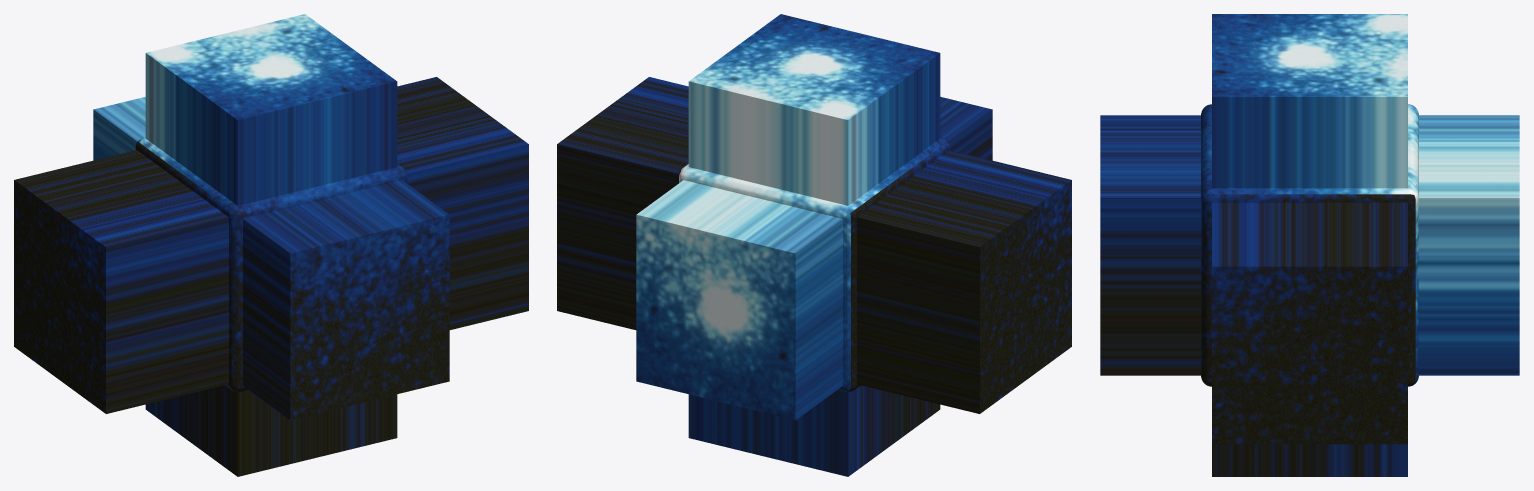
The model's file is square.obj.
3 renders of one model, left to right at view 1: azimuth 30°, elevation 25°; view 2: azimuth 150°, elevation 25°; view 3: azimuth 270°, elevation 25°, orthographic. The views are drawn at different scales.
Parts seen in each view (by area): view 1: square1:pCube1 group15; view 2: square1:pCube1 group15; view 3: square1:pCube1 group15.
Boxes of the visible parts, bbox=[...] form: square1:pCube1 group15: bbox=[14, 14, 528, 476]; square1:pCube1 group15: bbox=[557, 14, 1071, 476]; square1:pCube1 group15: bbox=[1100, 14, 1519, 476].
Size of the model in its own units: 10.33 by 8.33 by 8.33.
Materials: 1 (1 with a texture image).
